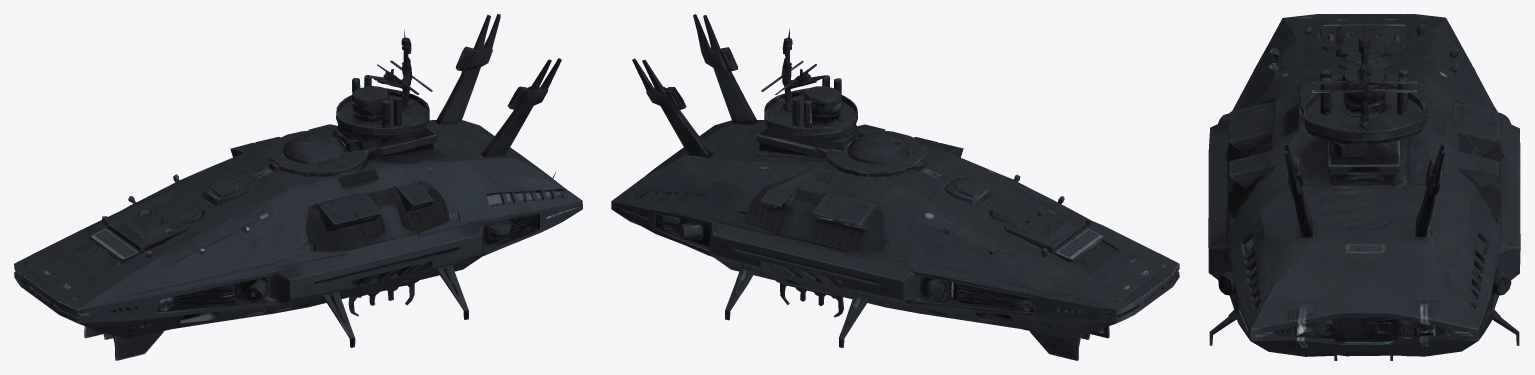
File: enemy-nereid-capital.glb
3 views of the same model, side by side, from view 1: azimuth 30°, elevation 25°; view 2: azimuth 150°, elevation 25°; view 3: azimuth 270°, elevation 25° (orthographic). The views are drawn at different scales.
Bounding box in the file's own units: 1.89 × 0.9696 × 0.7954.
1 material, 1 textured.
